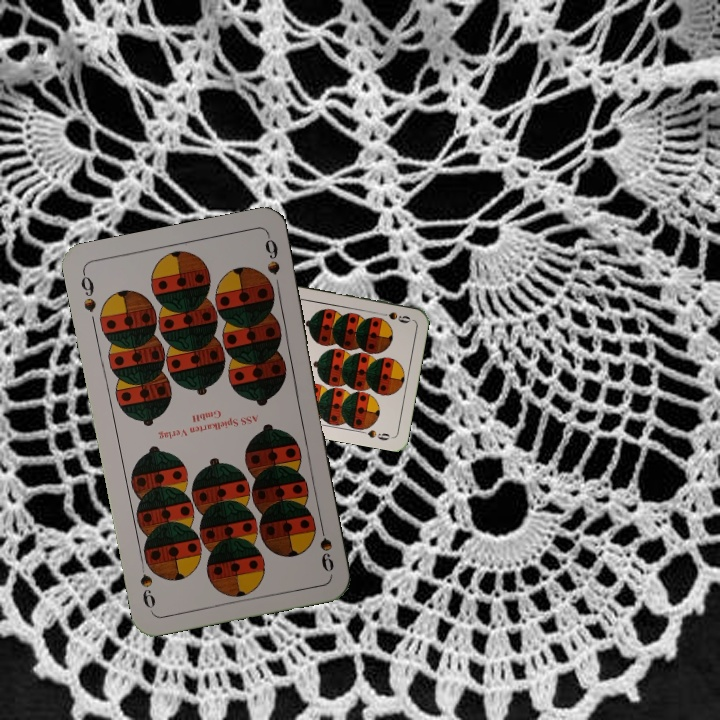S9: (315, 516, 337, 575), (77, 268, 99, 315), (373, 308, 413, 326)
